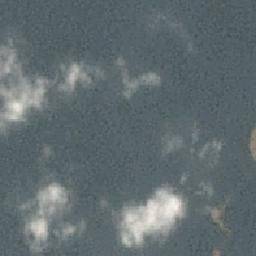cloud: (1, 28, 161, 132), (116, 174, 189, 248), (15, 183, 83, 248)
debris: (211, 204, 228, 233), (248, 125, 255, 157), (210, 247, 221, 256)
